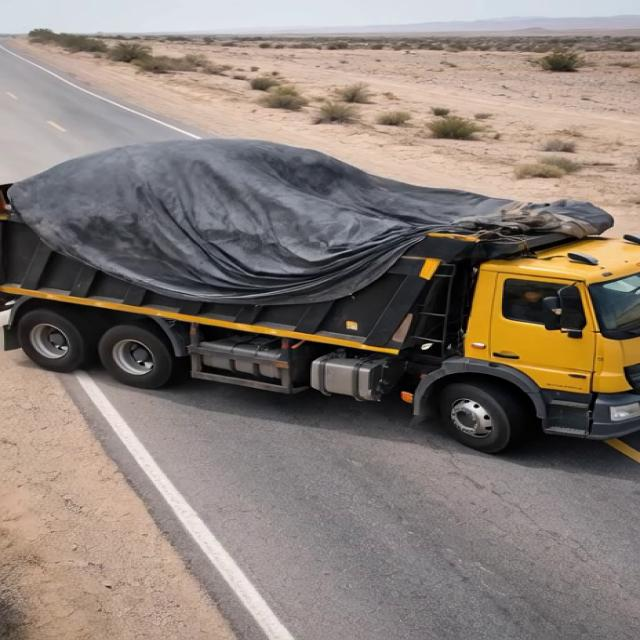Box: (0, 166, 590, 262)
Truck: (0, 157, 639, 406)
